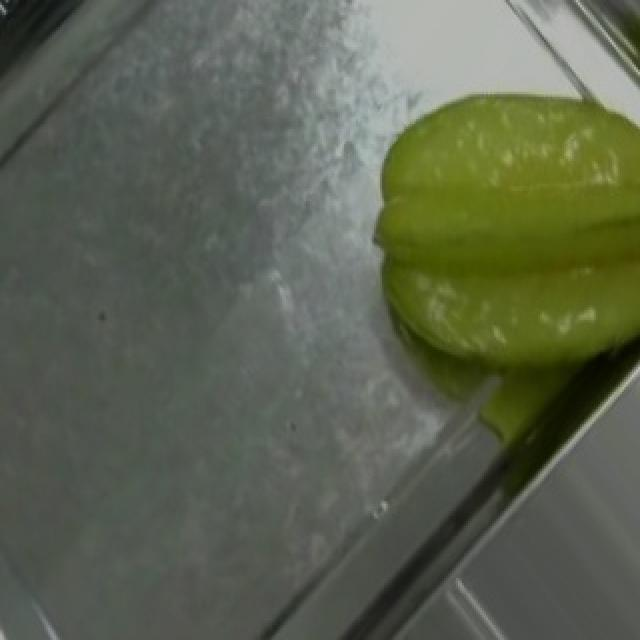fruit: (330, 15, 640, 446)
